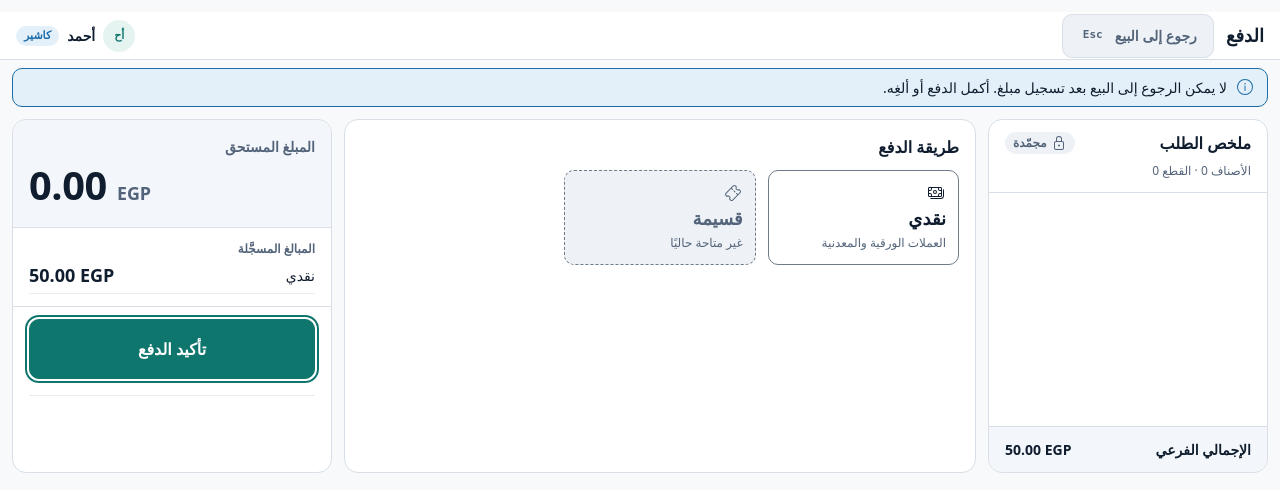
Scenario: RT-240 — the Checkout surface is Arabic only › on Completion, and it never claims the receipt was printed
Step 1. Click the button with test id "payment-surface-confirm" → (172, 349), box [29,319,315,379]
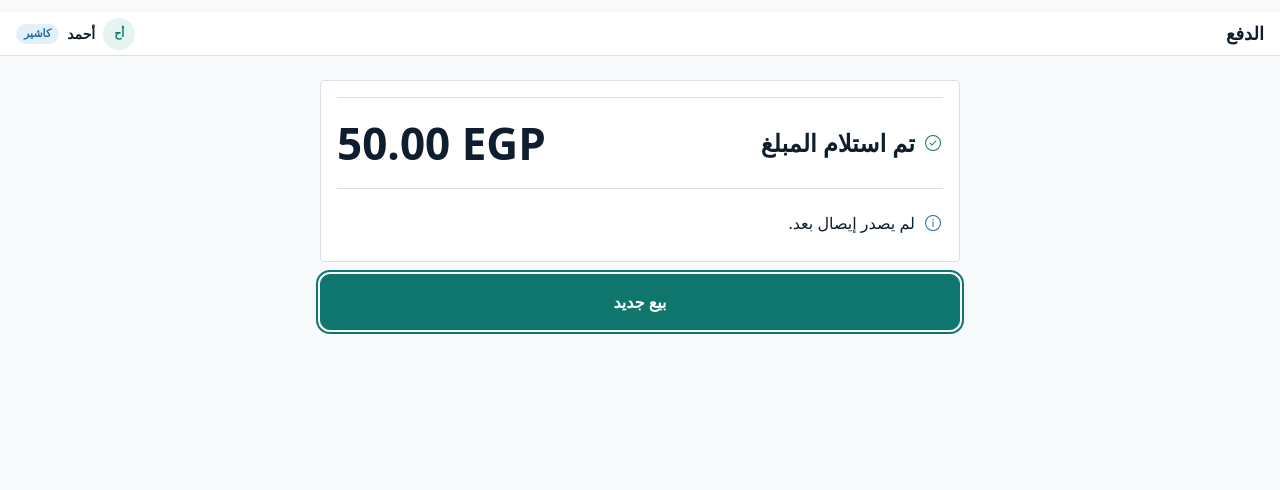
Check: the element with test id "payment-surface-settled" is shown, box [320,80,960,262]
